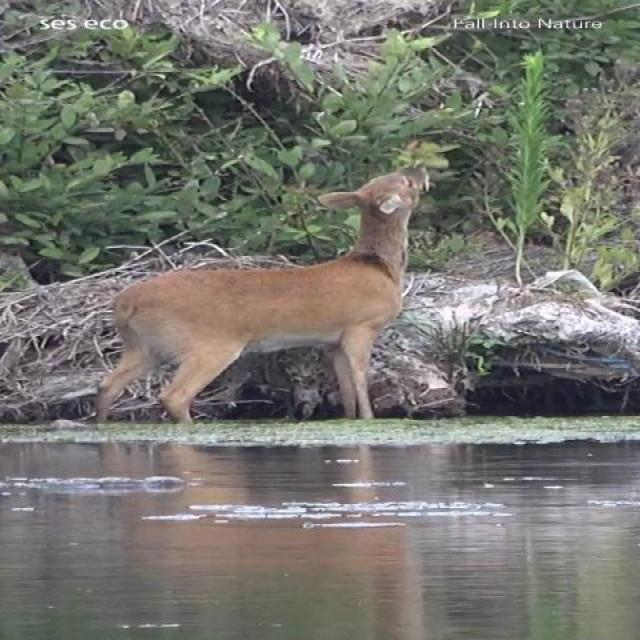deer: (85, 162, 432, 417)
